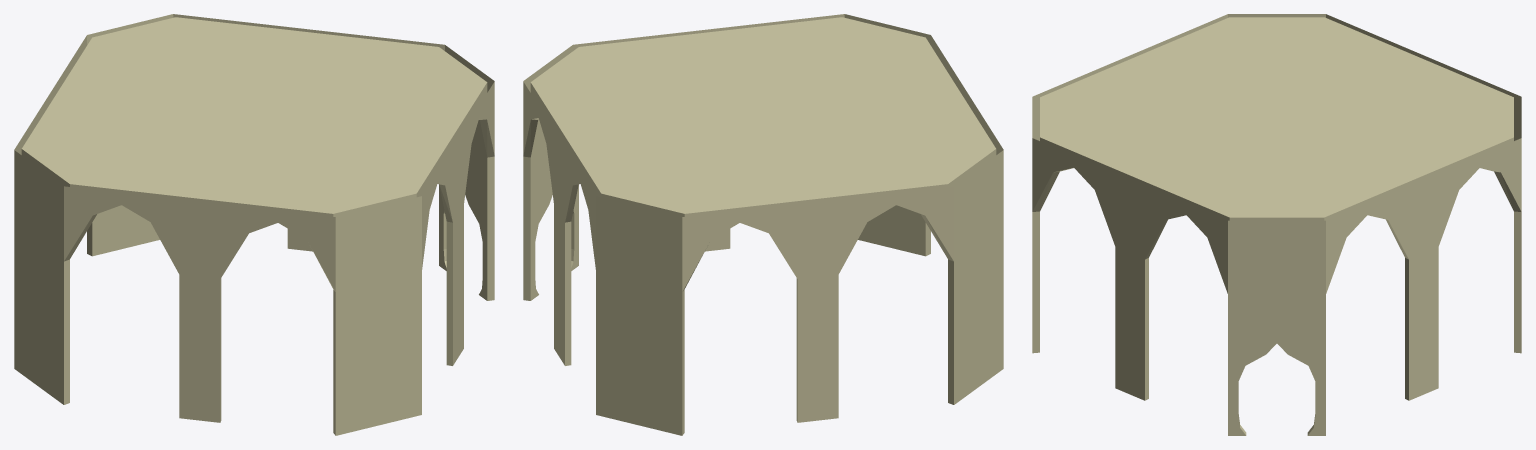
File: tower_doors1.fbx
The picture shows the model from 3 angles, left to right: view 1: azimuth 30°, elevation 25°; view 2: azimuth 150°, elevation 25°; view 3: azimuth 270°, elevation 25°; orthographic projection.
Parts seen in each view (by area): view 1: castle_pillarstop; view 2: castle_pillarstop; view 3: castle_pillarstop.
Part boxes in pixels (box(x1,y1,x2,y2)): castle_pillarstop: box(14, 14, 494, 435); castle_pillarstop: box(523, 14, 1003, 435); castle_pillarstop: box(1032, 14, 1521, 435).
Size of the model in its own units: 5000 by 2427 by 5000.
